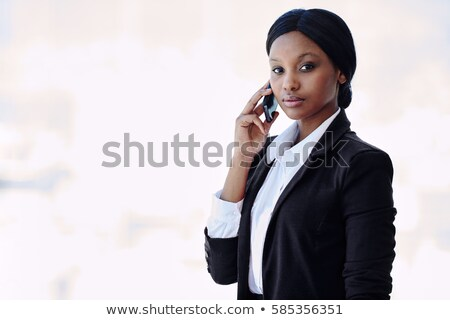phone: (254, 70, 278, 130)
talk: (228, 41, 327, 153)
